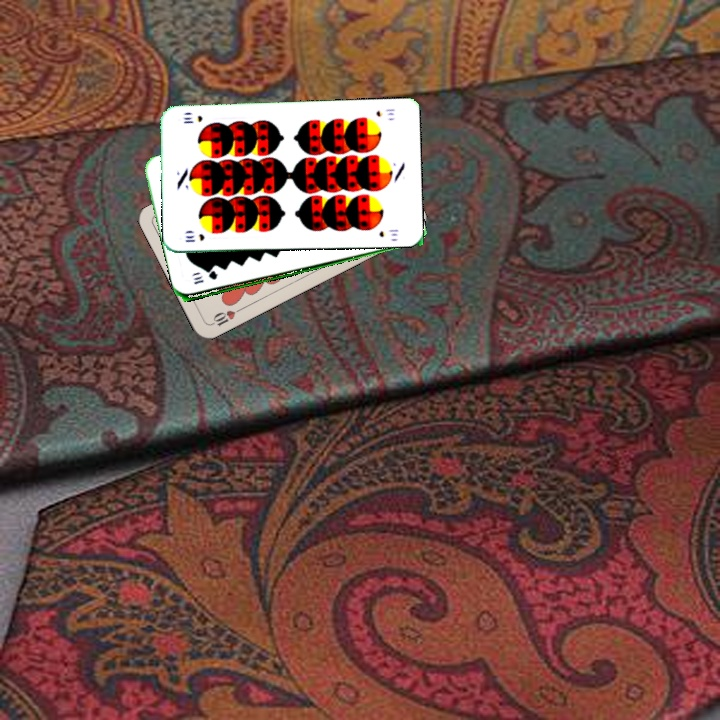G10: (190, 269, 220, 287)
H10: (207, 304, 245, 329)
S10: (181, 230, 207, 244), (372, 105, 397, 119)
